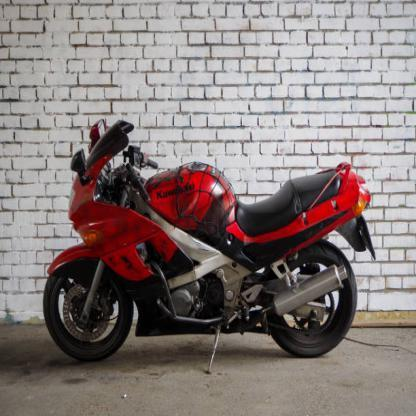Motorcycle: (35, 105, 377, 375)
